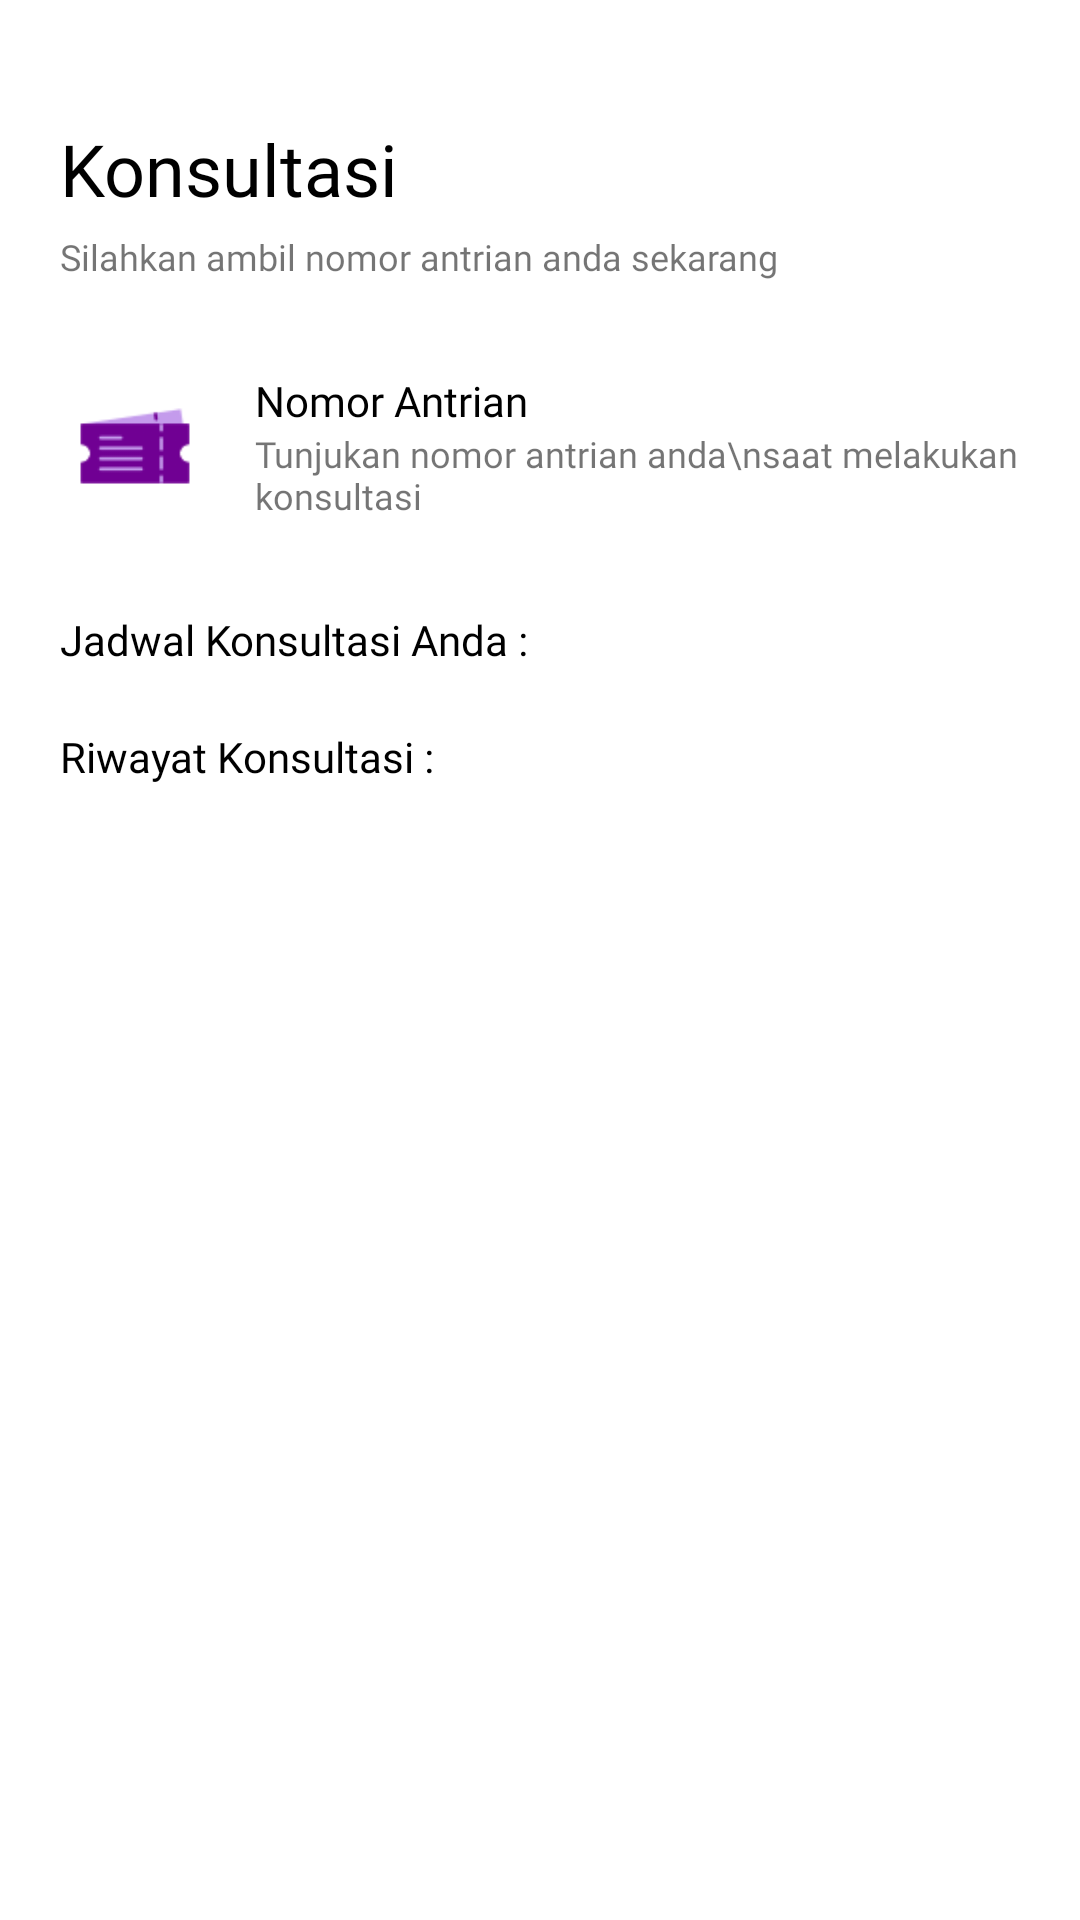

Where to tap for icons on this 1080x1920 app screen, as [x,y]:
ticket: [135,446]
